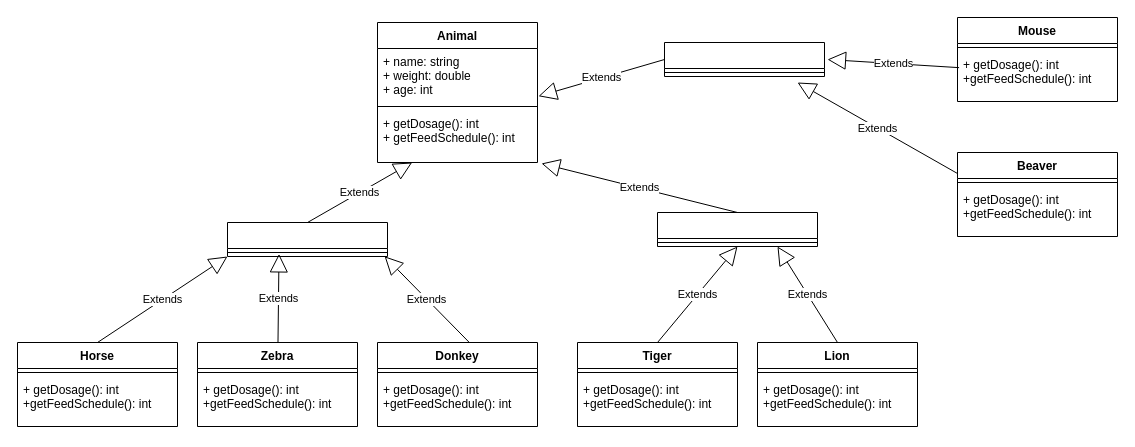
Image size: 1135x447. Some labels were removed from this diagram. Here are the shapes that lost their labels. From the top down, the centre of each, then its label:
the point at 744,59: Rodents
the point at 307,239: Horses
the point at 737,229: Felines
